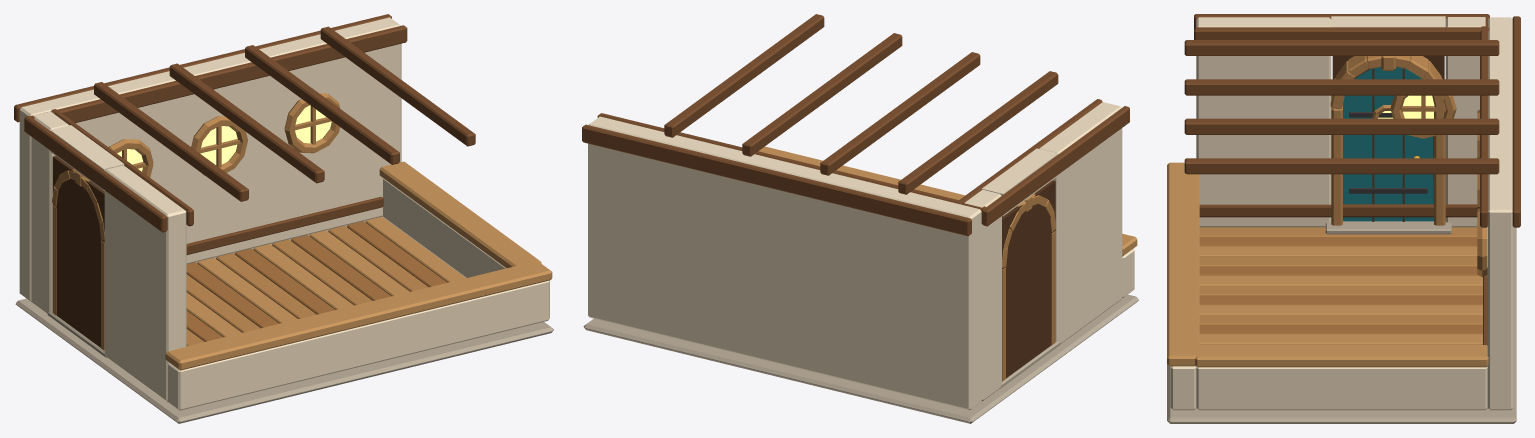
The model's file is houseboat_interior.glb.
3 renders of one model, left to right at view 1: azimuth 30°, elevation 25°; view 2: azimuth 150°, elevation 25°; view 3: azimuth 270°, elevation 25°, orthographic. The views are drawn at different scales.
Parts seen in each view (by area): view 1: houseboat_interior; view 2: houseboat_interior; view 3: houseboat_interior.
Boxes of the visible parts, x1,y1,x2,y2 form: houseboat_interior: (14, 14, 553, 423); houseboat_interior: (582, 14, 1138, 423); houseboat_interior: (1167, 14, 1520, 423).
Size of the model in its own units: 4.04 by 2.14 by 3.04.
